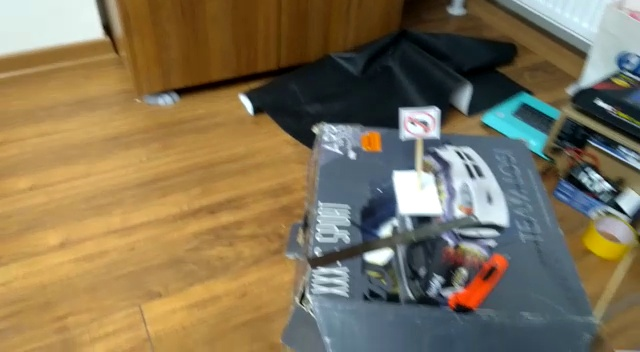sola_donulmez: (402, 108, 436, 138)
